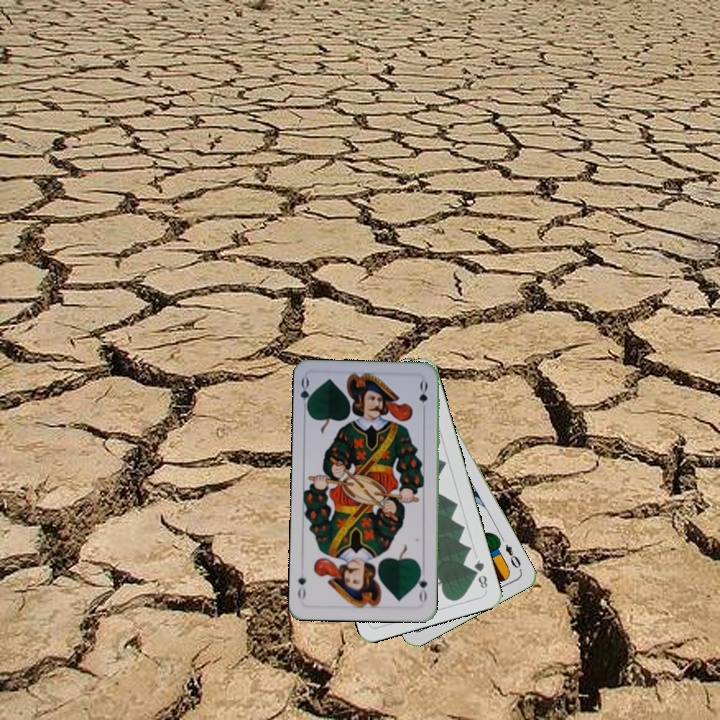EO: (501, 540, 523, 571)
G8: (469, 556, 490, 591)
GO: (296, 374, 316, 415), (413, 565, 429, 606)
